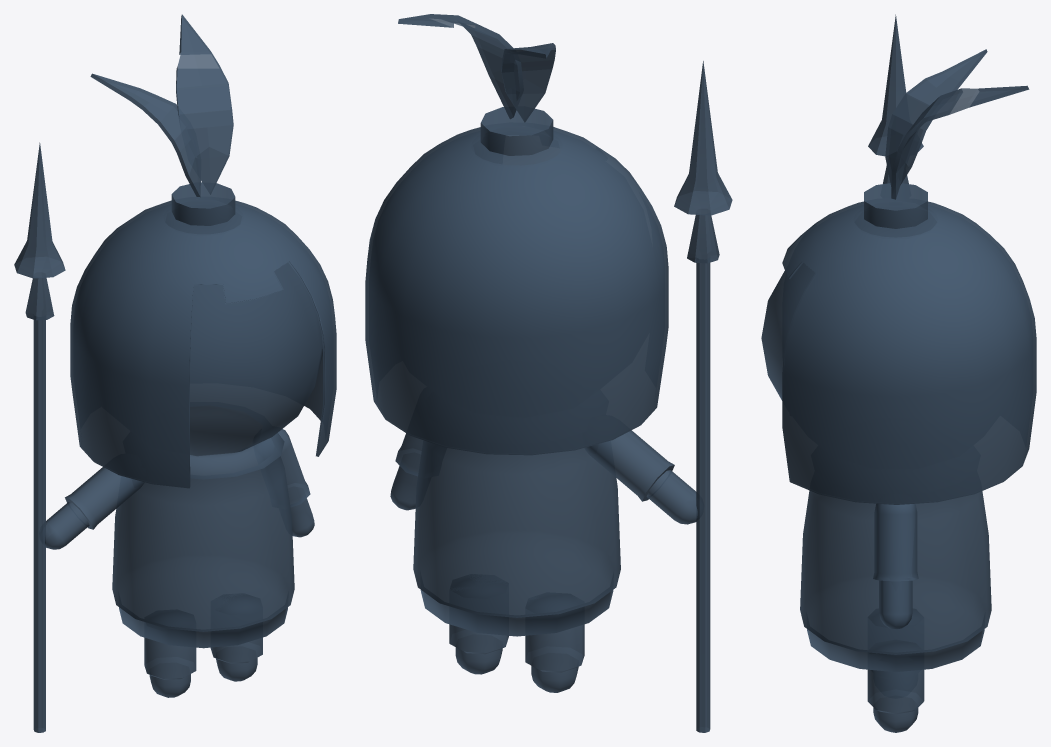
File: M_FakePlayer_Blue_.fbx
3 renders of one model, left to right at view 1: azimuth 30°, elevation 25°; view 2: azimuth 150°, elevation 25°; view 3: azimuth 270°, elevation 25°, orthographic. The views are drawn at different scales.
Parts seen in each view (by area): view 1: M_Arm_Right4; view 2: M_Arm_Right4; view 3: M_Arm_Right4.
Part boxes in pixels (bbox=[...]): M_Arm_Right4: bbox=[14, 14, 336, 732]; M_Arm_Right4: bbox=[365, 14, 732, 732]; M_Arm_Right4: bbox=[761, 14, 1036, 732].
Bounding box in the file's own units: 54.61 × 107 × 40.92.
